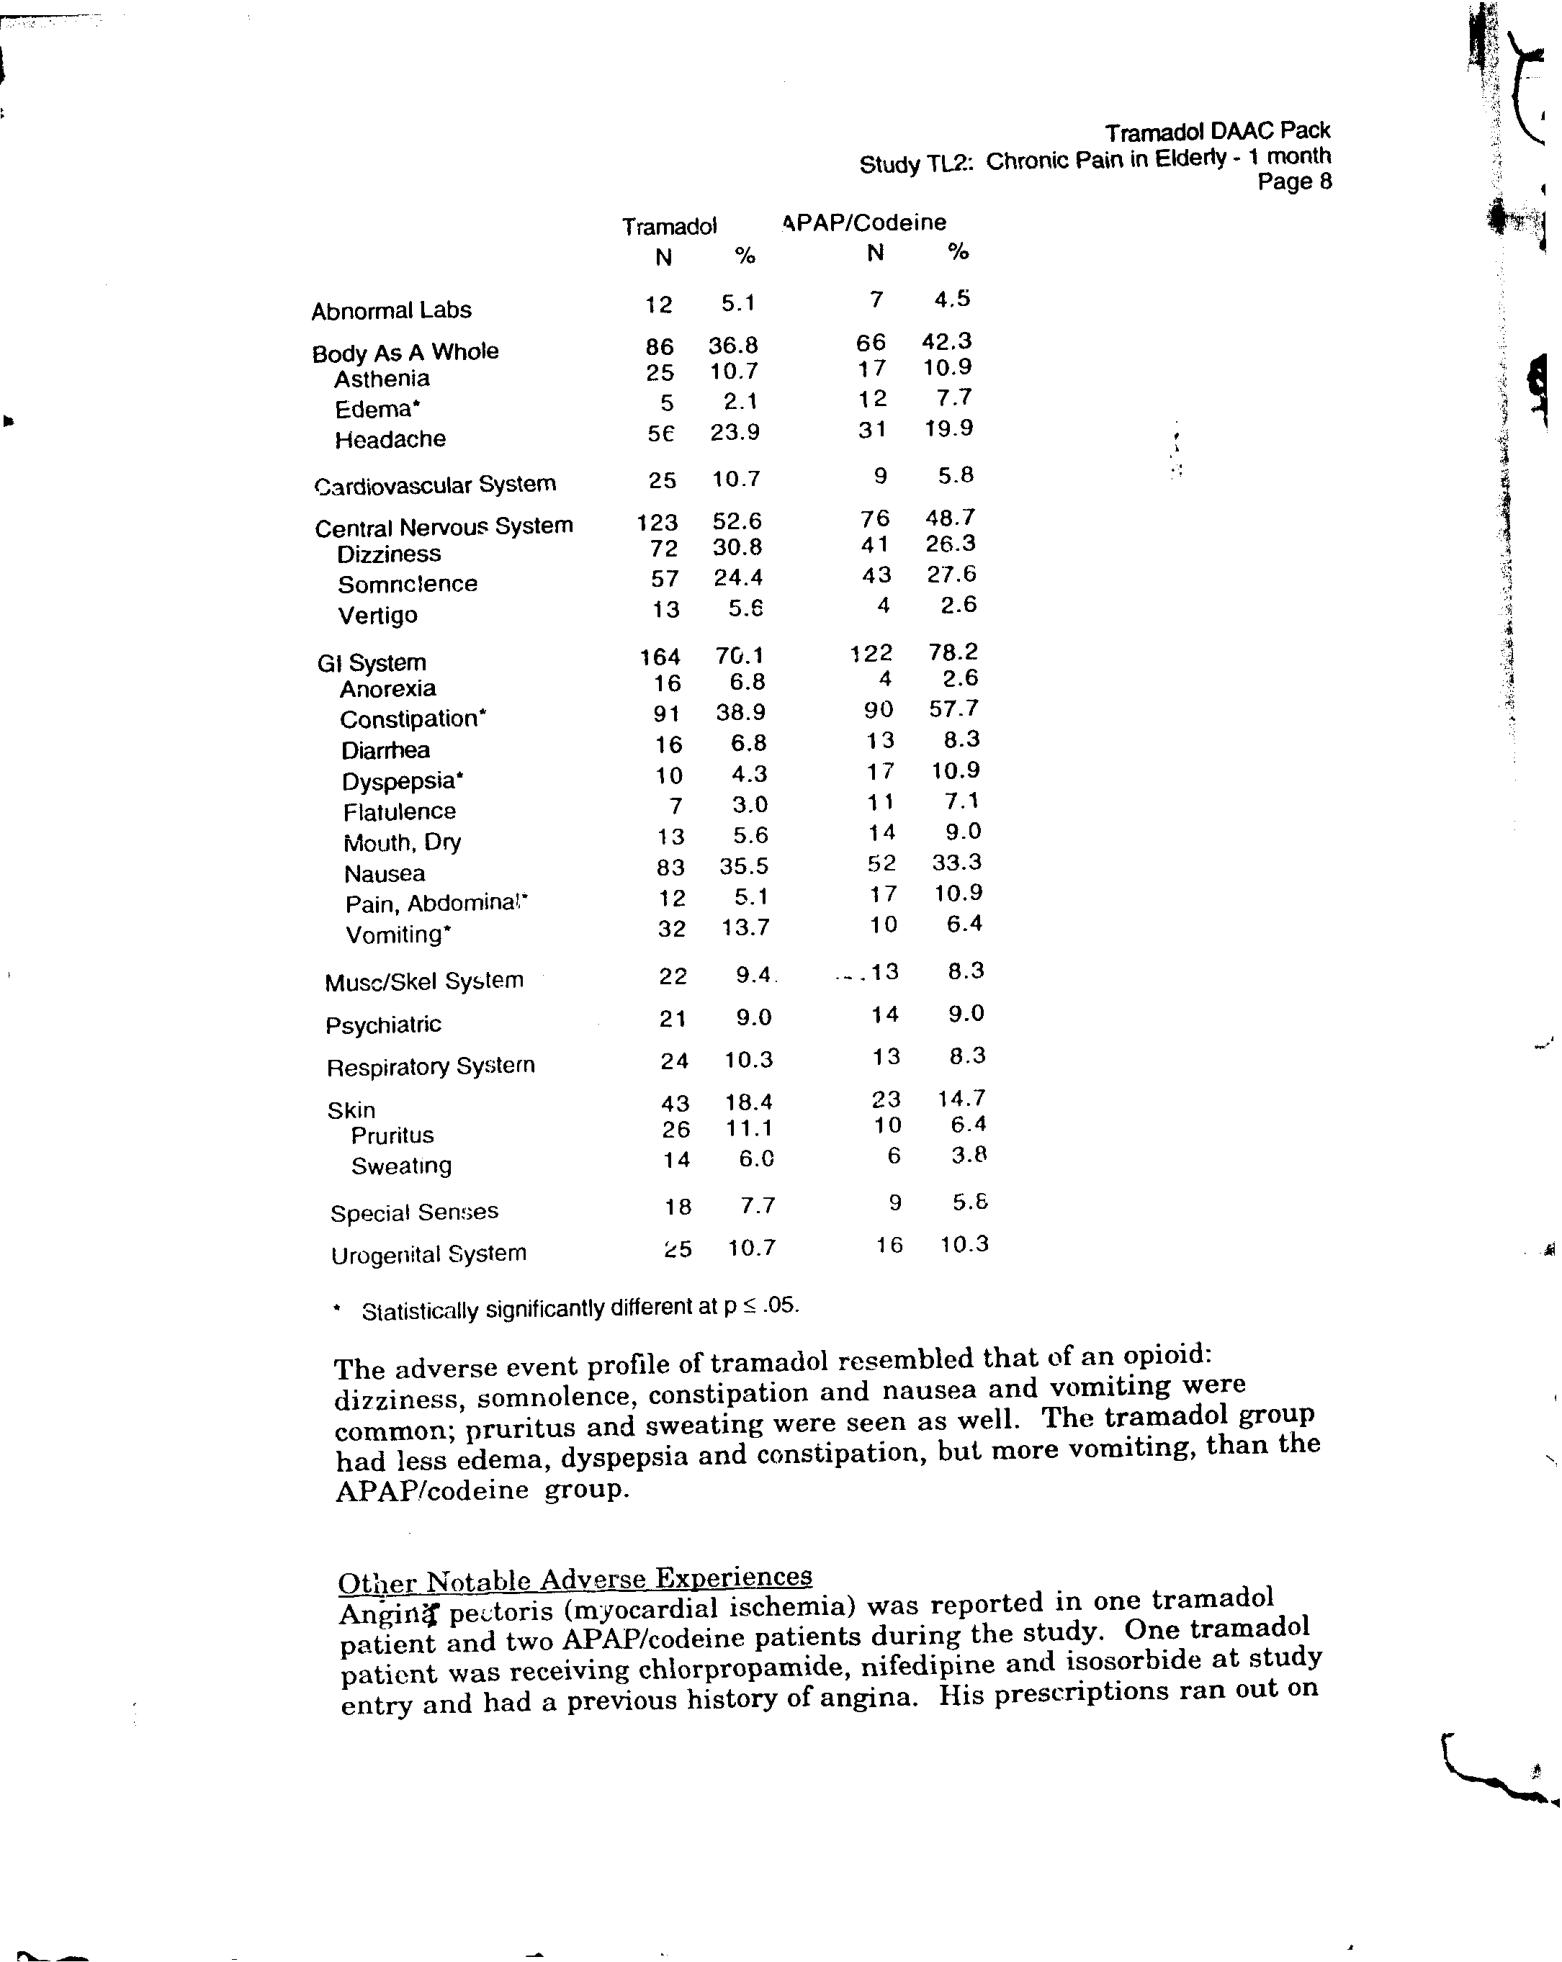nolines: (308, 210, 999, 1269)
